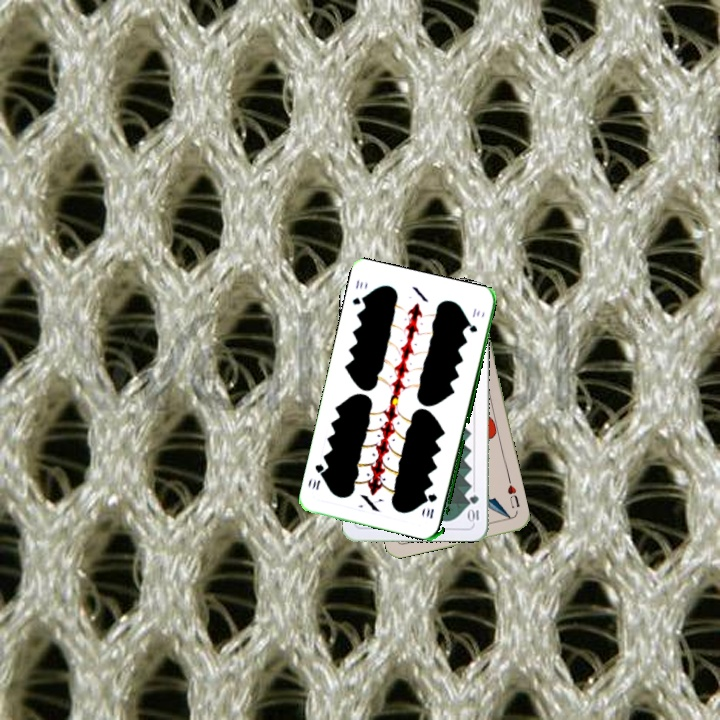G10: (348, 276, 369, 308), (422, 490, 440, 521), (466, 491, 481, 525)
HU: (503, 481, 522, 511)
